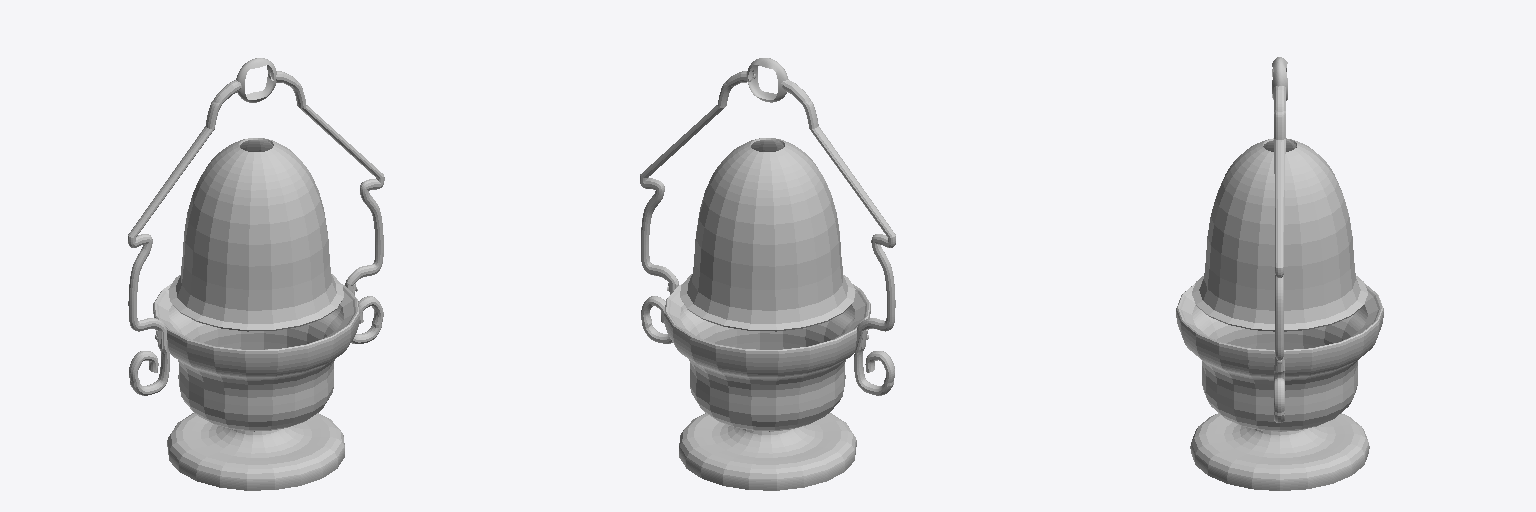
The model's file is Lantern.obj.
3 views of the same model, side by side, from view 1: azimuth 30°, elevation 25°; view 2: azimuth 150°, elevation 25°; view 3: azimuth 270°, elevation 25° (orthographic).
Parts seen in each view (by area): view 1: coppa_sotto, paralume, manico_2, manico_1, anello; view 2: coppa_sotto, paralume, manico_2, manico_1, anello; view 3: coppa_sotto, paralume, manico_1.
Boxes of the visible parts, x1=… form: coppa_sotto: x1=153, y1=284, x2=359, y2=490; paralume: x1=168, y1=138, x2=343, y2=331; manico_2: x1=128, y1=80, x2=241, y2=395; manico_1: x1=270, y1=71, x2=384, y2=343; anello: x1=236, y1=58, x2=276, y2=102; coppa_sotto: x1=664, y1=284, x2=870, y2=490; paralume: x1=680, y1=138, x2=855, y2=331; manico_2: x1=781, y1=79, x2=895, y2=395; manico_1: x1=640, y1=70, x2=753, y2=343; anello: x1=747, y1=58, x2=787, y2=102; coppa_sotto: x1=1176, y1=284, x2=1383, y2=490; paralume: x1=1192, y1=138, x2=1367, y2=331; manico_1: x1=1274, y1=86, x2=1285, y2=422.
Size of the model in its own units: 20.49 by 30.27 by 14.44.